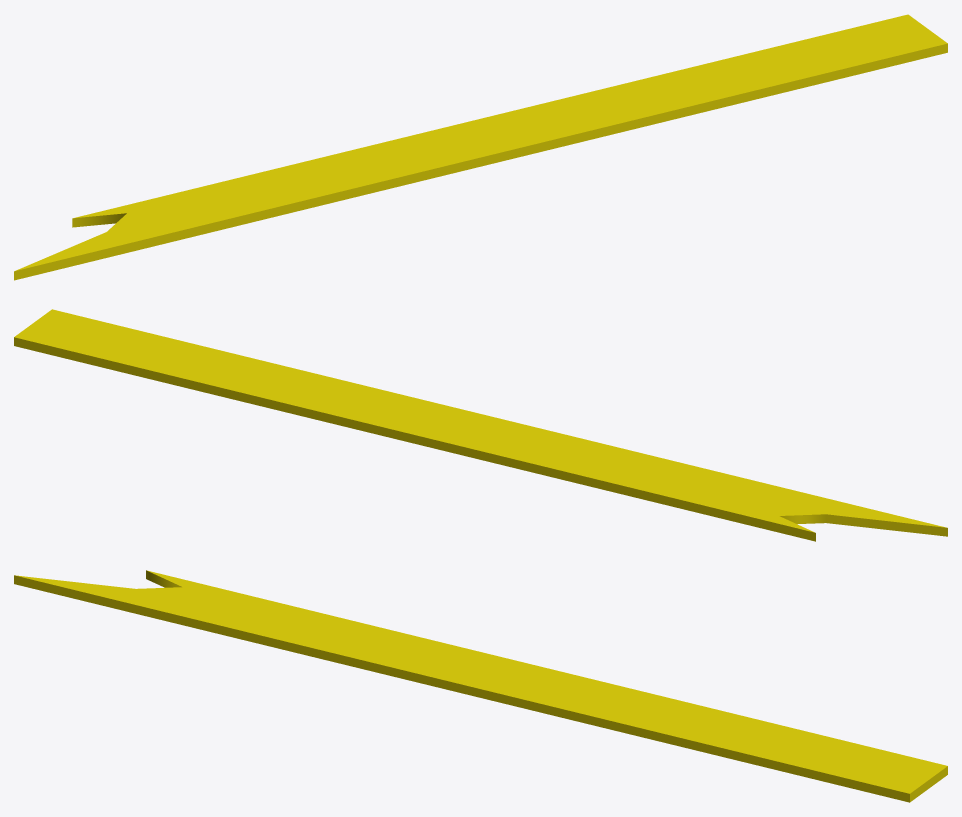
File: Mdl_Vagon_Barras2.fbx
3 views of the same model, one above another, from view 1: azimuth 30°, elevation 25°; view 2: azimuth 150°, elevation 25°; view 3: azimuth 330°, elevation 25° (orthographic). The views are drawn at different scales.
Parts seen in each view (by area): view 1: Mdl_Vagon_Barras2; view 2: Mdl_Vagon_Barras2; view 3: Mdl_Vagon_Barras2.
Boxes of the visible parts, <box> form: Mdl_Vagon_Barras2: <box>14,14,947,280</box>; Mdl_Vagon_Barras2: <box>14,309,947,541</box>; Mdl_Vagon_Barras2: <box>14,570,947,802</box>.
Bounding box in the file's own units: 12.33 × 0.1156 × 0.9089.
